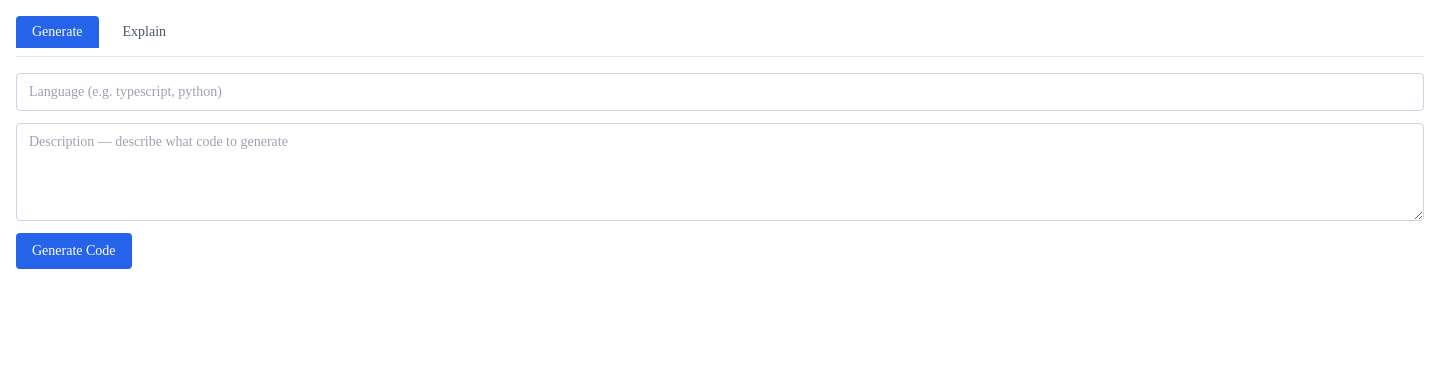
Scenario: CodeAssistant › switches back to Generate tab
What coordinates should you click on to do the following:
click the button "Explain"
I would click on:
 (144, 32)
Its box is [106, 16, 182, 48].
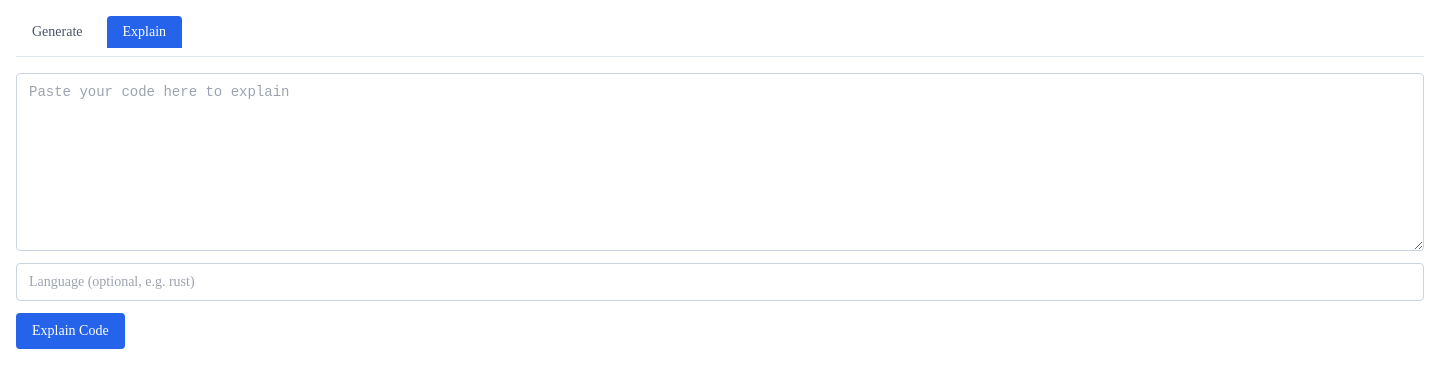
What coordinates should you click on to do the following:
click the button "Generate"
I would click on:
 (57, 32)
Its box is [16, 16, 98, 48].
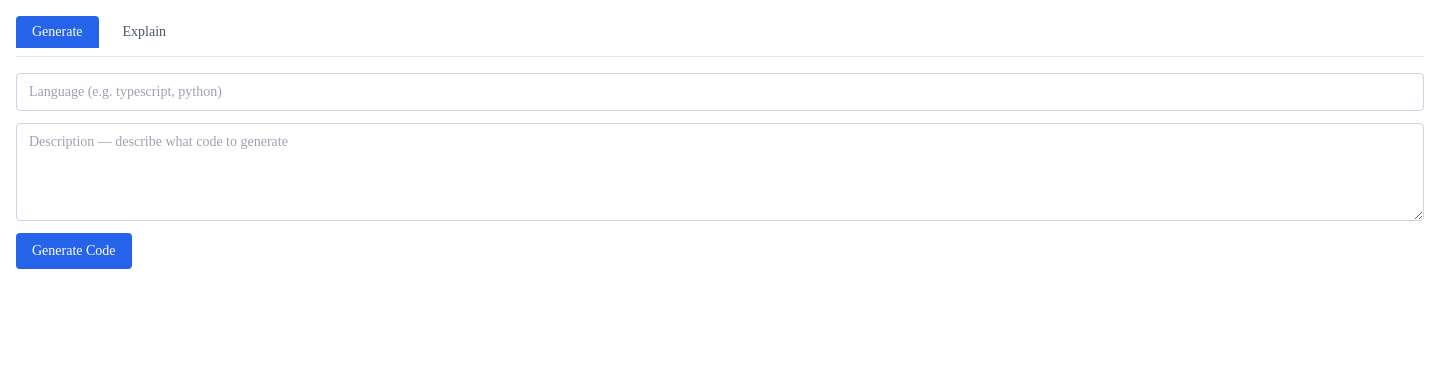
Expected: the text box with placeholder "Description — describe what code to generate" is shown, [16, 123, 1424, 221]
